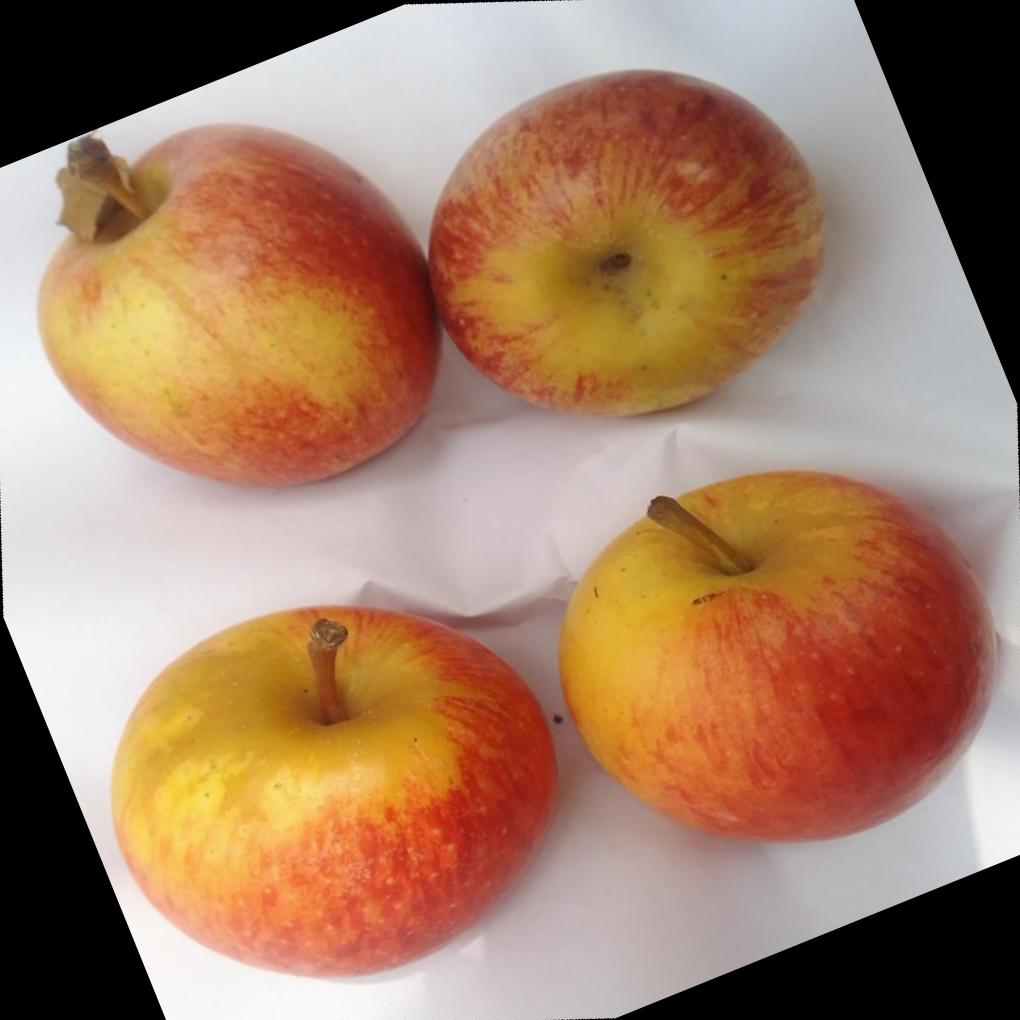FreshGuava: (37, 66, 827, 484), (111, 602, 560, 977), (559, 467, 994, 839)
